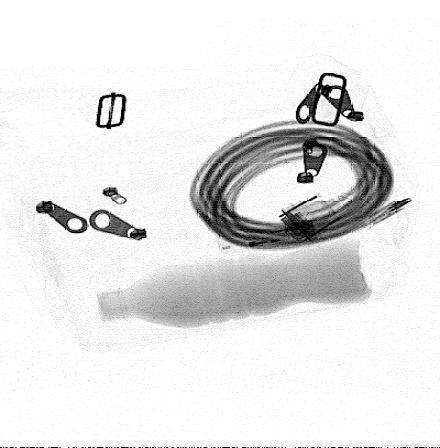Lighter: (216, 218, 317, 251)
